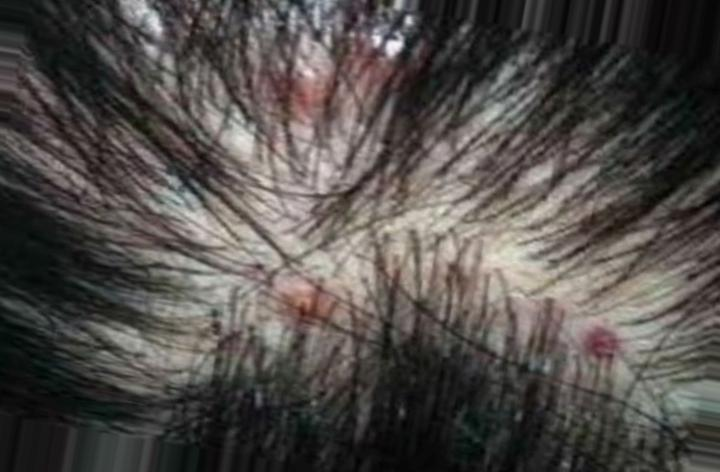Folliculitis: (214, 7, 636, 385)
